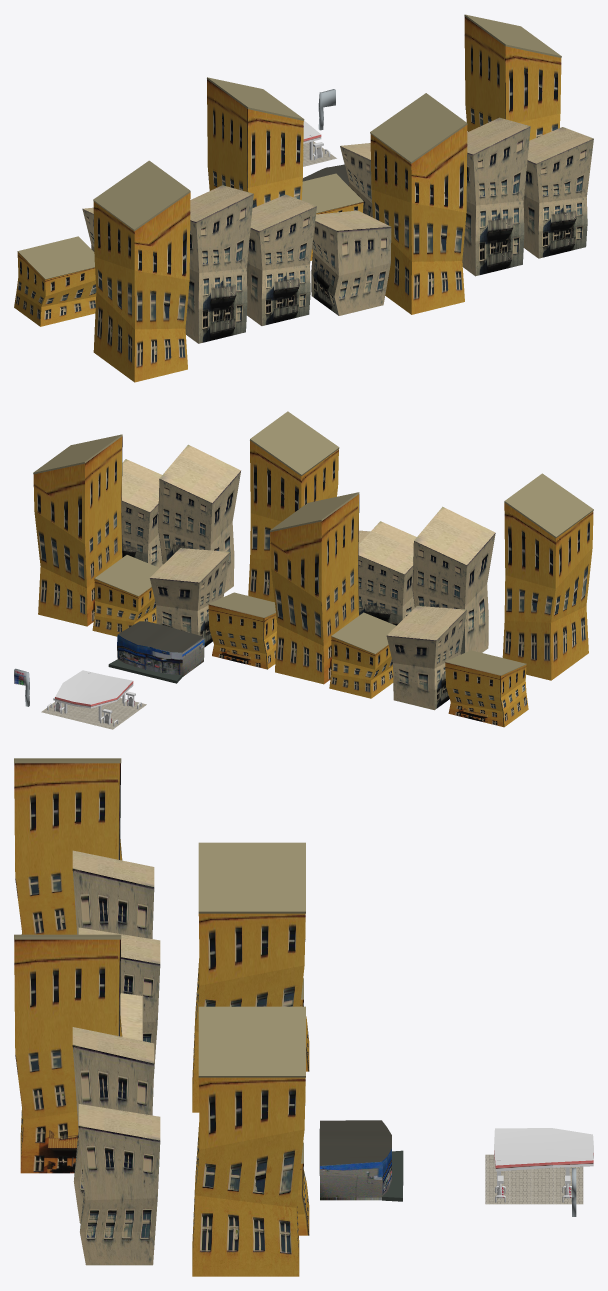
The model's file is Prologue - Gas Station Version 2.fbx.
3 views of the same model, one above another, from view 1: azimuth 30°, elevation 25°; view 2: azimuth 150°, elevation 25°; view 3: azimuth 270°, elevation 25° (orthographic). The views are drawn at different scales.
Parts seen in each view (by area): view 1: Apartment1.005, Apartment1.001, Apartment1.007, Apartment1.003, Apartment2.004, Apartment2.001, Apartment2.002, Apartment2.005, Apartment2.006, Apartment1.006, Apartment1.002, Apartment2; view 2: Apartment1.005, Apartment1.007, Apartment1.003, Apartment1.001, Apartment2.004, Apartment2.001, Apartment2.003, Apartment2, Apartment1.006, Apartment2.005, Apartment1.004, Apartment1.002 (+7 smaller); view 3: Apartment1.003, Apartment1.001, Apartment1.007, Apartment1.005, Apartment2.002, Apartment2.001, Apartment2.004, Store, Station, Apartment2.005, Plane, Apartment2.006 (+2 smaller).
Part boxes in pixels (box(x1,y1,x2,y2)): Apartment1.005: box(93, 160, 190, 382); Apartment1.001: box(370, 93, 467, 314); Apartment1.007: box(207, 77, 304, 207); Apartment1.003: box(464, 14, 561, 140); Apartment2.004: box(185, 185, 253, 343); Apartment2.001: box(462, 117, 530, 276); Apartment2.002: box(523, 127, 593, 258); Apartment2.005: box(246, 194, 316, 325); Apartment2.006: box(311, 210, 391, 315); Apartment1.006: box(14, 236, 96, 326); Apartment1.002: box(301, 173, 363, 260); Apartment2: box(340, 143, 372, 217); Apartment1.005: box(502, 473, 593, 680); Apartment1.007: box(270, 492, 359, 684); Apartment1.003: box(33, 434, 122, 626); Apartment1.001: box(248, 411, 339, 602); Apartment2.004: box(412, 506, 495, 654); Apartment2.001: box(158, 444, 240, 592); Apartment2.003: box(386, 606, 466, 710); Apartment2: box(150, 548, 229, 646); Apartment1.006: box(445, 650, 528, 727); Apartment2.005: box(358, 521, 416, 625); Apartment1.004: box(329, 612, 396, 698); Apartment1.002: box(208, 592, 277, 669); Apartment1.003: box(192, 1006, 305, 1276); Apartment1.001: box(14, 934, 122, 1173); Apartment1.007: box(192, 842, 305, 1112); Apartment1.005: box(14, 758, 122, 934); Apartment2.002: box(78, 1104, 160, 1265); Apartment2.001: box(72, 1027, 154, 1223); Apartment2.004: box(72, 850, 154, 938); Store: box(319, 1120, 391, 1200); Station: box(494, 1128, 593, 1171); Apartment2.005: box(78, 927, 160, 1073); Plane: box(485, 1154, 583, 1204); Apartment2.006: box(120, 993, 142, 1040).
Size of the model in its own units: 11155 by 3781 by 8420.
Materials: 15 (8 with a texture image).
